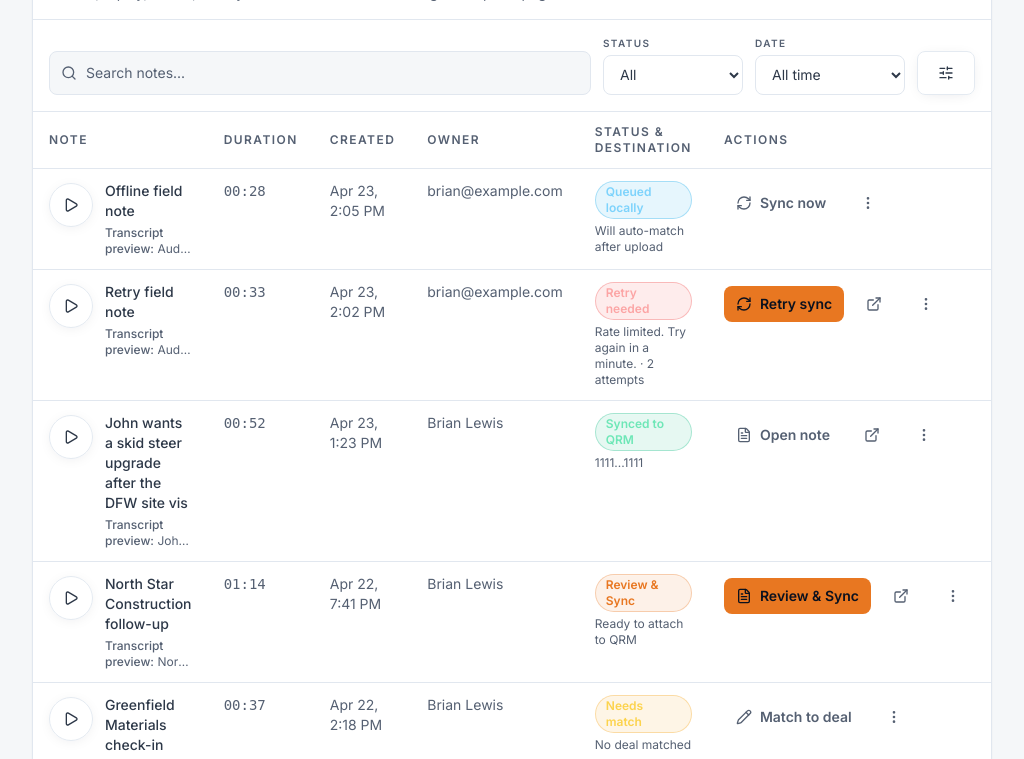
Test: VoiceCapturePage redesign › renders the /sales/field-note voice cockpit with match, offline, and recent-note controls
(page scrolled)
Expected: the field with placeholder "Search notes..." is shown, [49,50,591,94]
Expected: the text "Status" is shown, [603,36,650,48]
Click the button "Open note" at (783, 434), box [724,416,842,452]
(page scrolled)
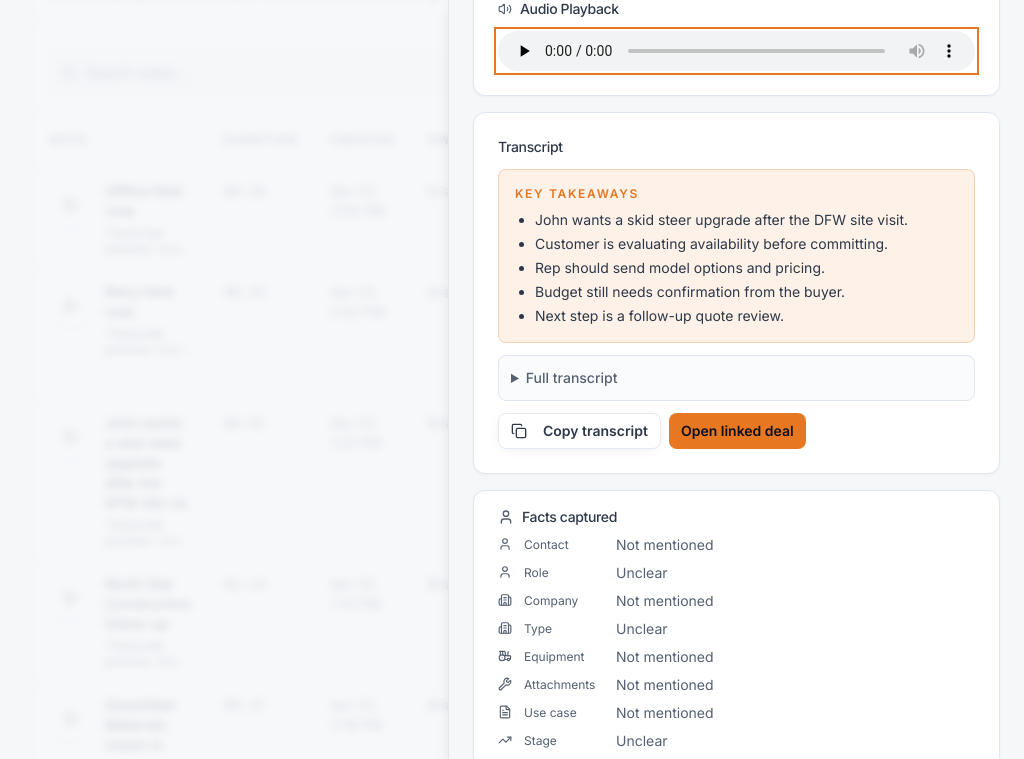
Now the text "Key takeaways" is shown, box [515,186,639,201]
Now the list item "Rep should send model options and pricing." is shown, box [535,259,825,276]
Now the heading "Full transcript" is shown, box [526,369,617,386]
